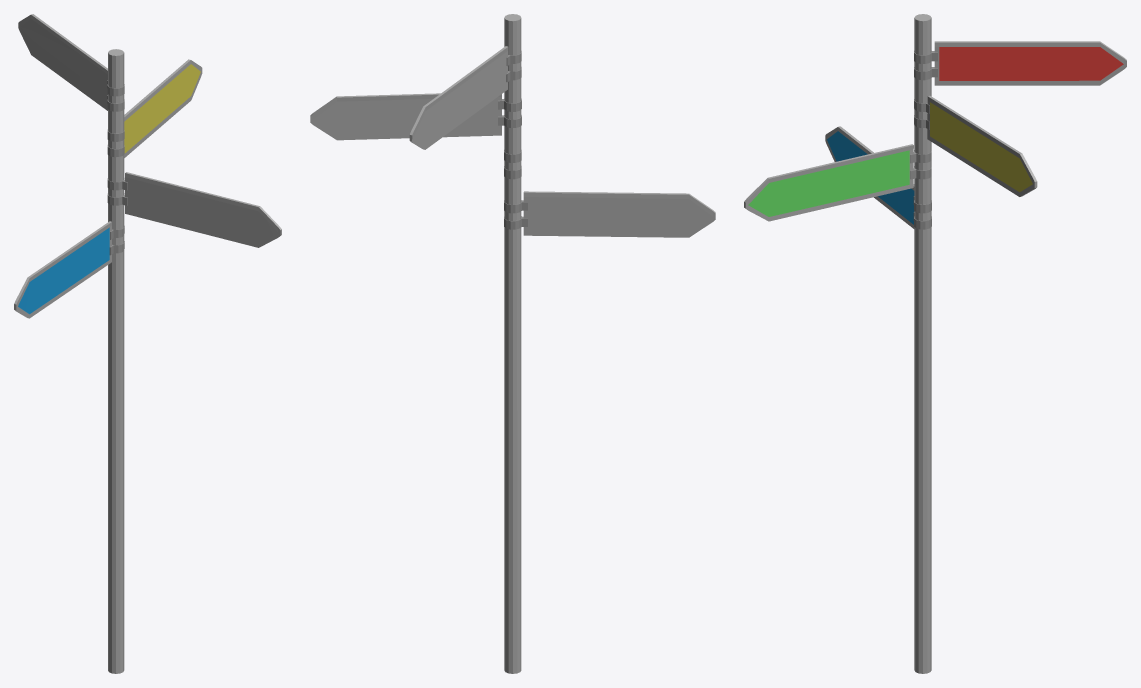
The model's file is direction sign 4.fbx.
The picture shows the model from 3 angles, left to right: view 1: azimuth 30°, elevation 25°; view 2: azimuth 150°, elevation 25°; view 3: azimuth 270°, elevation 25°; orthographic projection. The views are drawn at different scales.
Parts seen in each view (by area): view 1: Cylinder; view 2: Cylinder; view 3: Cylinder.
Boxes of the visible parts, x1,y1,x2,y2 form: Cylinder: (14, 14, 281, 673); Cylinder: (310, 14, 715, 673); Cylinder: (744, 14, 1126, 673).
Size of the model in its own units: 1475 by 3044 by 1617.
